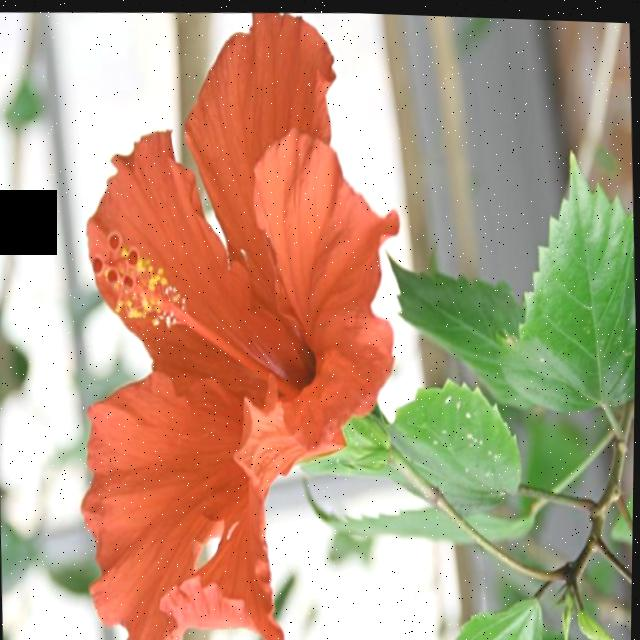hibiscus: (43, 1, 640, 640)
